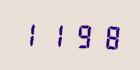eight: (93, 20, 117, 51)
nine: (68, 19, 92, 50)
one: (18, 18, 42, 49), (43, 19, 67, 49)
